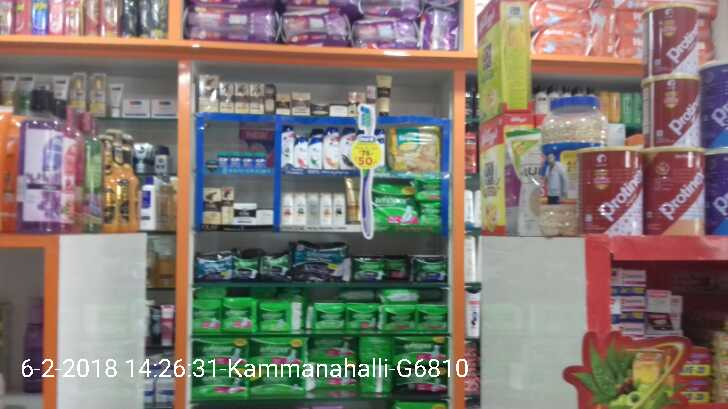beauty: (343, 175, 363, 225), (375, 75, 393, 115), (338, 129, 355, 170), (199, 74, 217, 111), (322, 128, 336, 170), (203, 187, 220, 221), (292, 135, 308, 169), (281, 125, 293, 167), (317, 194, 332, 227), (307, 135, 321, 170), (331, 195, 347, 224), (219, 83, 234, 113), (221, 186, 233, 223), (305, 192, 319, 222), (233, 85, 248, 113), (249, 85, 263, 115), (292, 93, 310, 116), (233, 204, 254, 222), (282, 190, 293, 222), (275, 92, 290, 115), (294, 190, 304, 222), (258, 211, 272, 223)
pharmacy: (384, 125, 442, 171), (294, 240, 350, 263), (410, 252, 450, 283), (374, 197, 418, 223), (221, 300, 259, 330), (296, 260, 349, 281), (351, 250, 385, 281), (311, 301, 349, 328), (259, 298, 291, 330), (378, 303, 417, 328), (196, 250, 230, 278), (373, 178, 418, 199), (347, 303, 380, 331), (194, 298, 221, 331), (233, 250, 259, 279), (261, 252, 291, 277), (415, 200, 445, 224), (417, 307, 447, 329), (383, 252, 408, 278), (414, 178, 442, 200), (212, 152, 229, 168), (252, 151, 267, 167), (229, 154, 241, 169), (242, 152, 252, 168)
